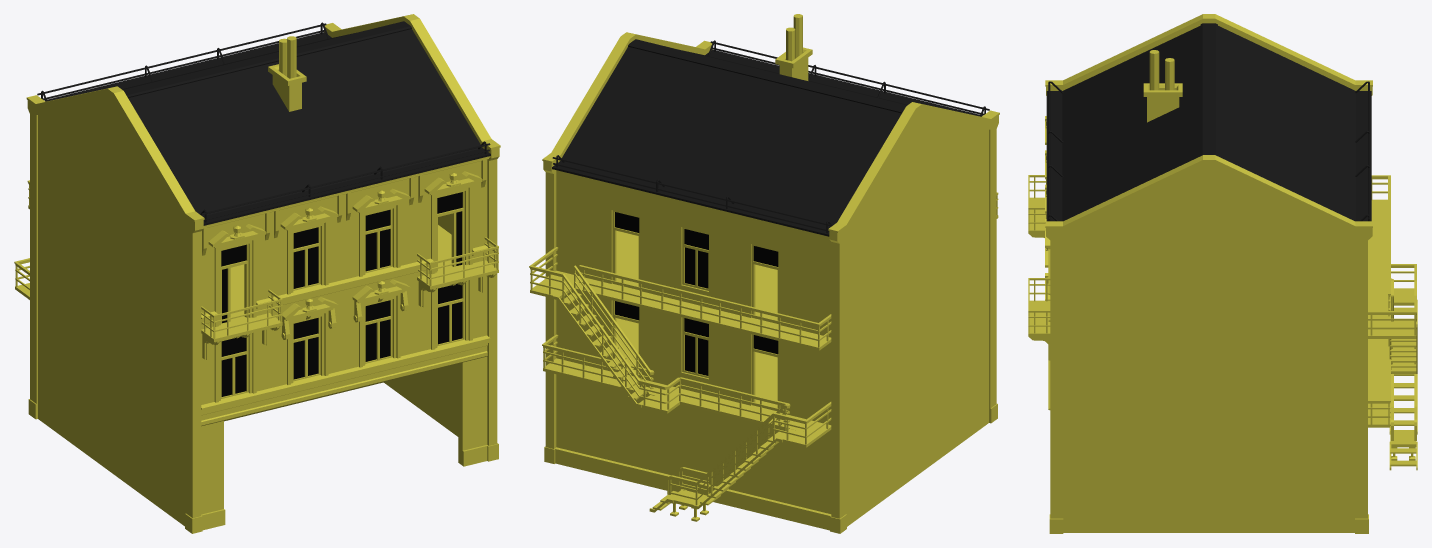
Rendered from SM_first_house.fbx.
The picture shows the model from 3 angles, left to right: view 1: azimuth 30°, elevation 25°; view 2: azimuth 150°, elevation 25°; view 3: azimuth 270°, elevation 25°; orthographic projection. The views are drawn at different scales.
Parts seen in each view (by area): view 1: Cube_12; view 2: Cube_12; view 3: Cube_12.
Boxes of the visible parts, x1,y1,x2,y2 form: Cube_12: [14, 14, 500, 533]; Cube_12: [529, 14, 999, 533]; Cube_12: [1028, 14, 1417, 533].
Bounding box in the file's own units: 1064 × 1390 × 1199.
